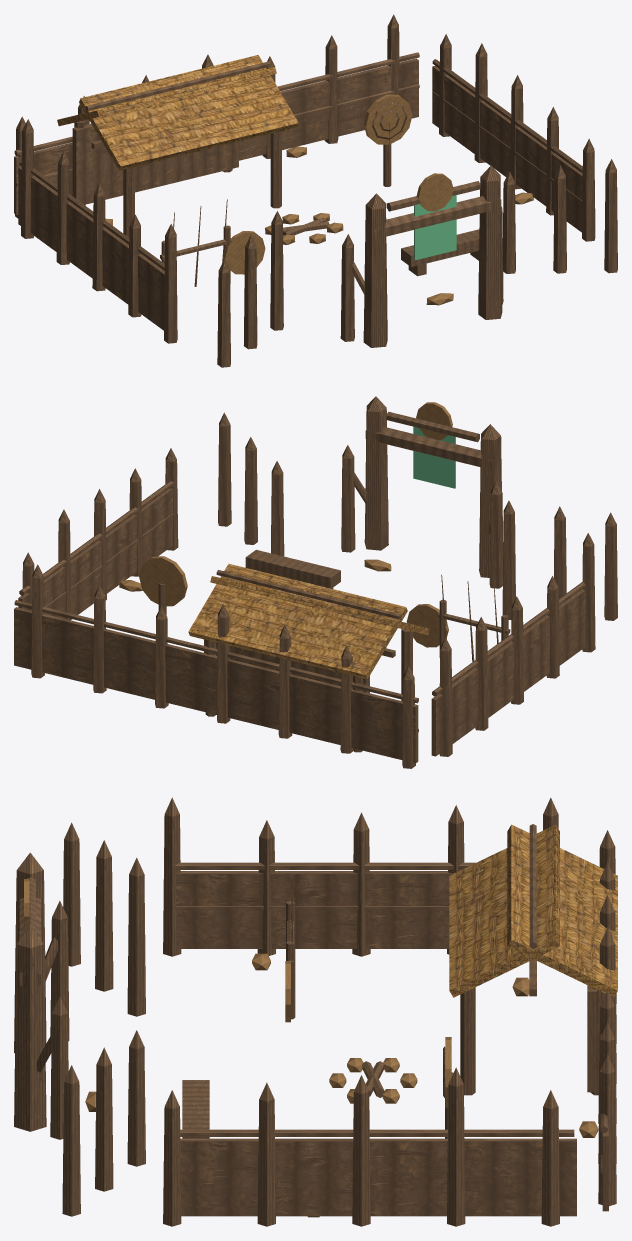
Rendered from edificio-barracks-e0-BYbM0YNK.glb.
3 views of the same model, one above another, from view 1: azimuth 30°, elevation 25°; view 2: azimuth 150°, elevation 25°; view 3: azimuth 270°, elevation 25° (orthographic). The views are drawn at different scales.
Parts seen in each view (by area): view 1: edificio-barracks-e0-final-v1-lod1_cuartel_pbr, edificio-barracks-e0-final-v1-lod1_team_color; view 2: edificio-barracks-e0-final-v1-lod1_cuartel_pbr, edificio-barracks-e0-final-v1-lod1_team_color; view 3: edificio-barracks-e0-final-v1-lod1_cuartel_pbr.
Part boxes in pixels (x1,y1,x2,y2): edificio-barracks-e0-final-v1-lod1_cuartel_pbr: (14,14,617,367); edificio-barracks-e0-final-v1-lod1_team_color: (414,195,456,260); edificio-barracks-e0-final-v1-lod1_cuartel_pbr: (14,396,617,768); edificio-barracks-e0-final-v1-lod1_team_color: (413,426,455,488); edificio-barracks-e0-final-v1-lod1_cuartel_pbr: (14,797,617,1226).
Bounding box in the file's own units: 55.48 × 19.35 × 51.06.
Materials: 2 (1 with a texture image).
